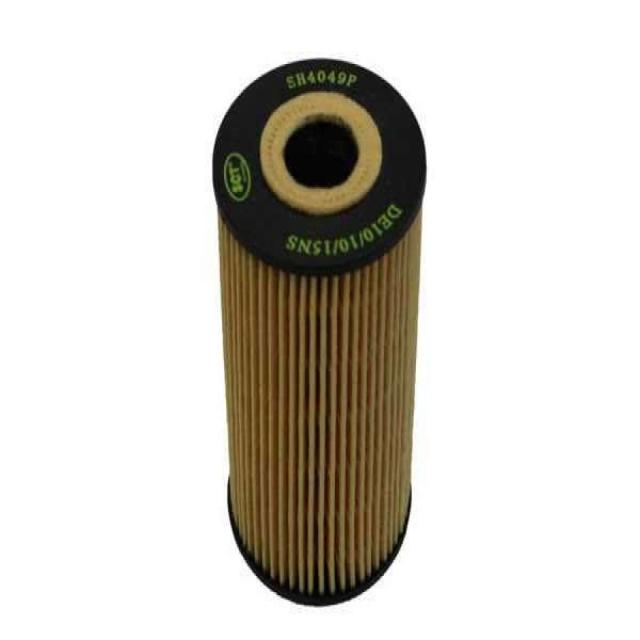oil_filter: (204, 52, 428, 612)
